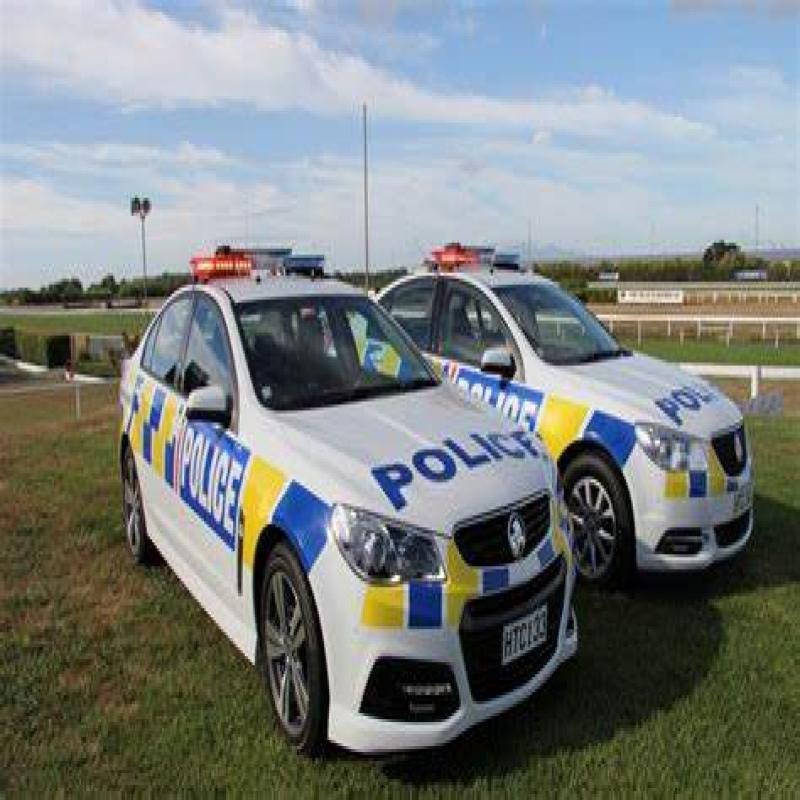AmbulanceSiren: (187, 235, 328, 293), (412, 233, 537, 282)
